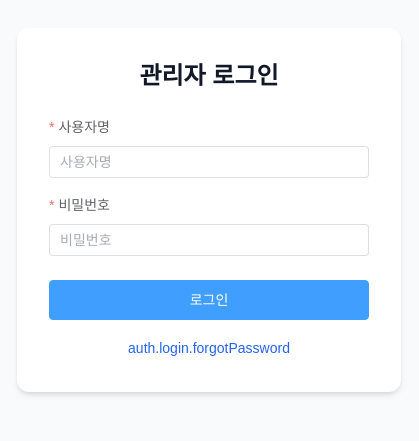
Scenario: LoginView › 401 응답 시 에러 메시지를 표시한다
In the field named "username": [209, 162] box [60, 147, 358, 177], type "admin"
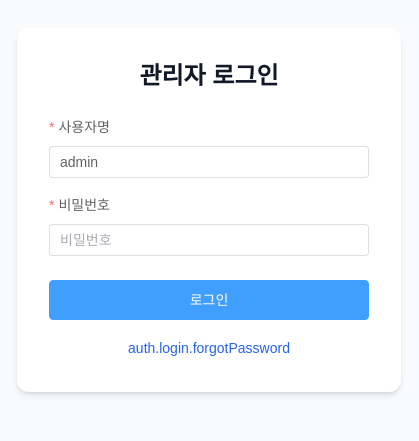
In the password field named "password": [209, 240] box [60, 225, 358, 255], type "wrongpass"
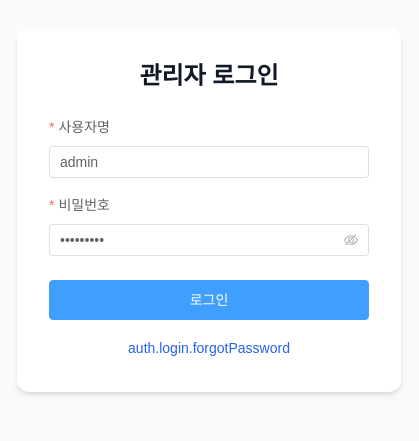
Submit the form, box [49, 116, 369, 360]
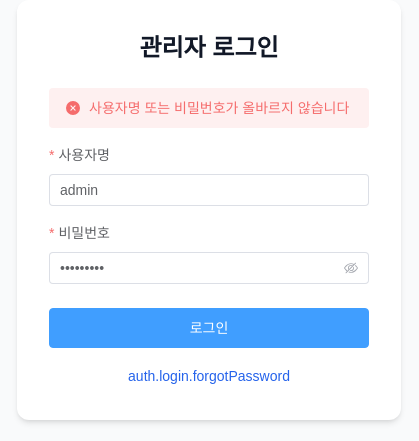
Expected: the message "사용자명 또는 비밀번호가 올바르지 않습니다" is shown, [49, 88, 369, 128]
